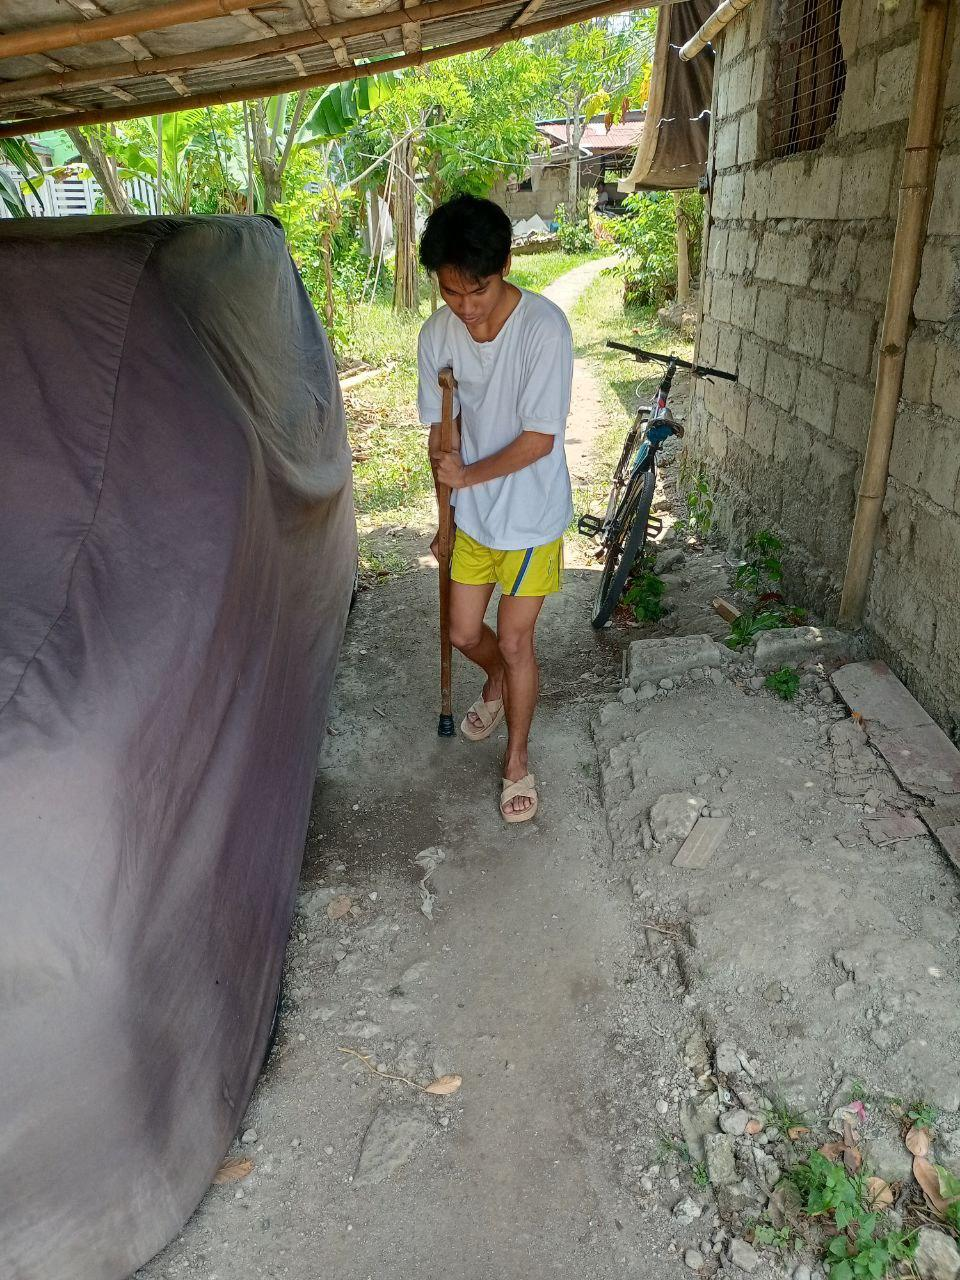crutches: (410, 185, 585, 835)
